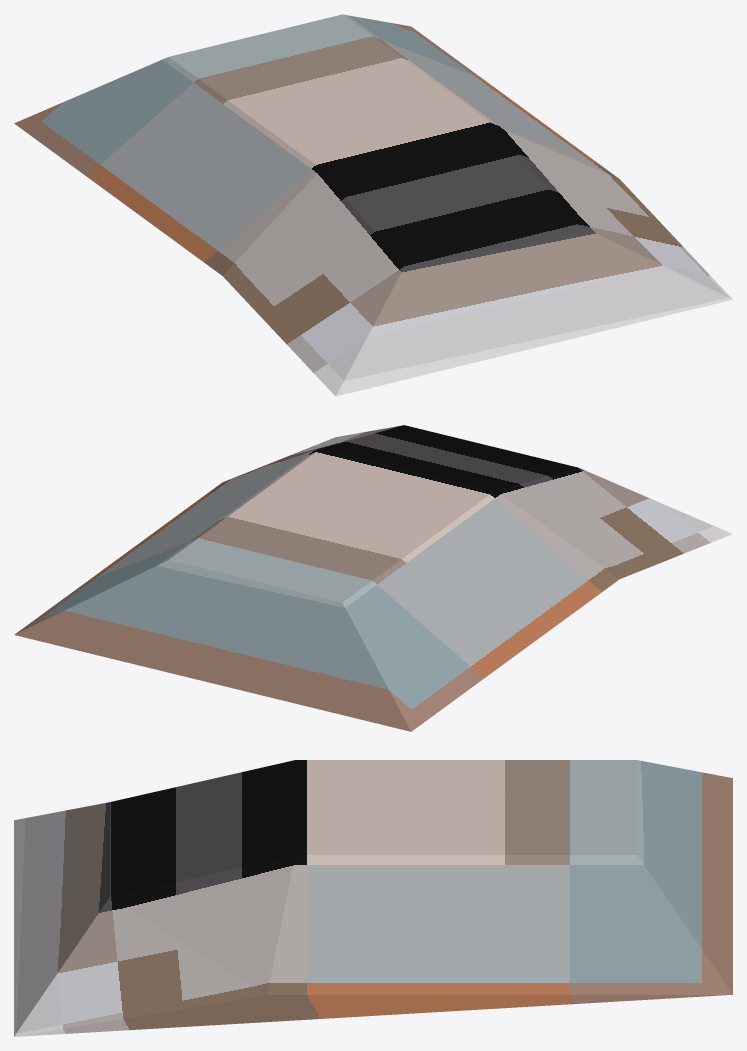
The model's file is TurretGoblin.obj.
3 views of the same model, one above another, from view 1: azimuth 30°, elevation 25°; view 2: azimuth 150°, elevation 25°; view 3: azimuth 270°, elevation 25° (orthographic). The views are drawn at different scales.
Visible parts, largest first — view 1: TurretUV; view 2: TurretUV; view 3: TurretUV.
Boxes of the visible parts, x1,y1,x2,y2 form: TurretUV: (14,14,732,396); TurretUV: (14,425,732,731); TurretUV: (14,760,732,1036).
Size of the model in its own units: 1.17 by 0.3062 by 1.65.
